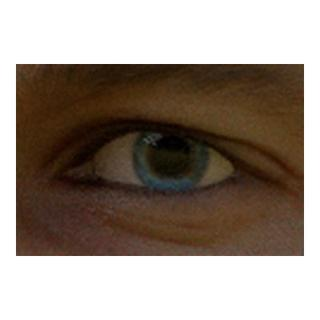pupil: (151, 136, 190, 176)
